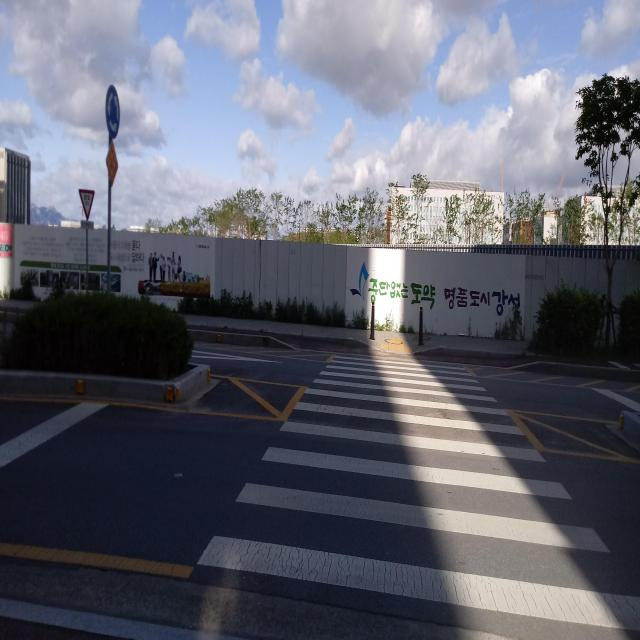횡단보도: (194, 349, 638, 637)
